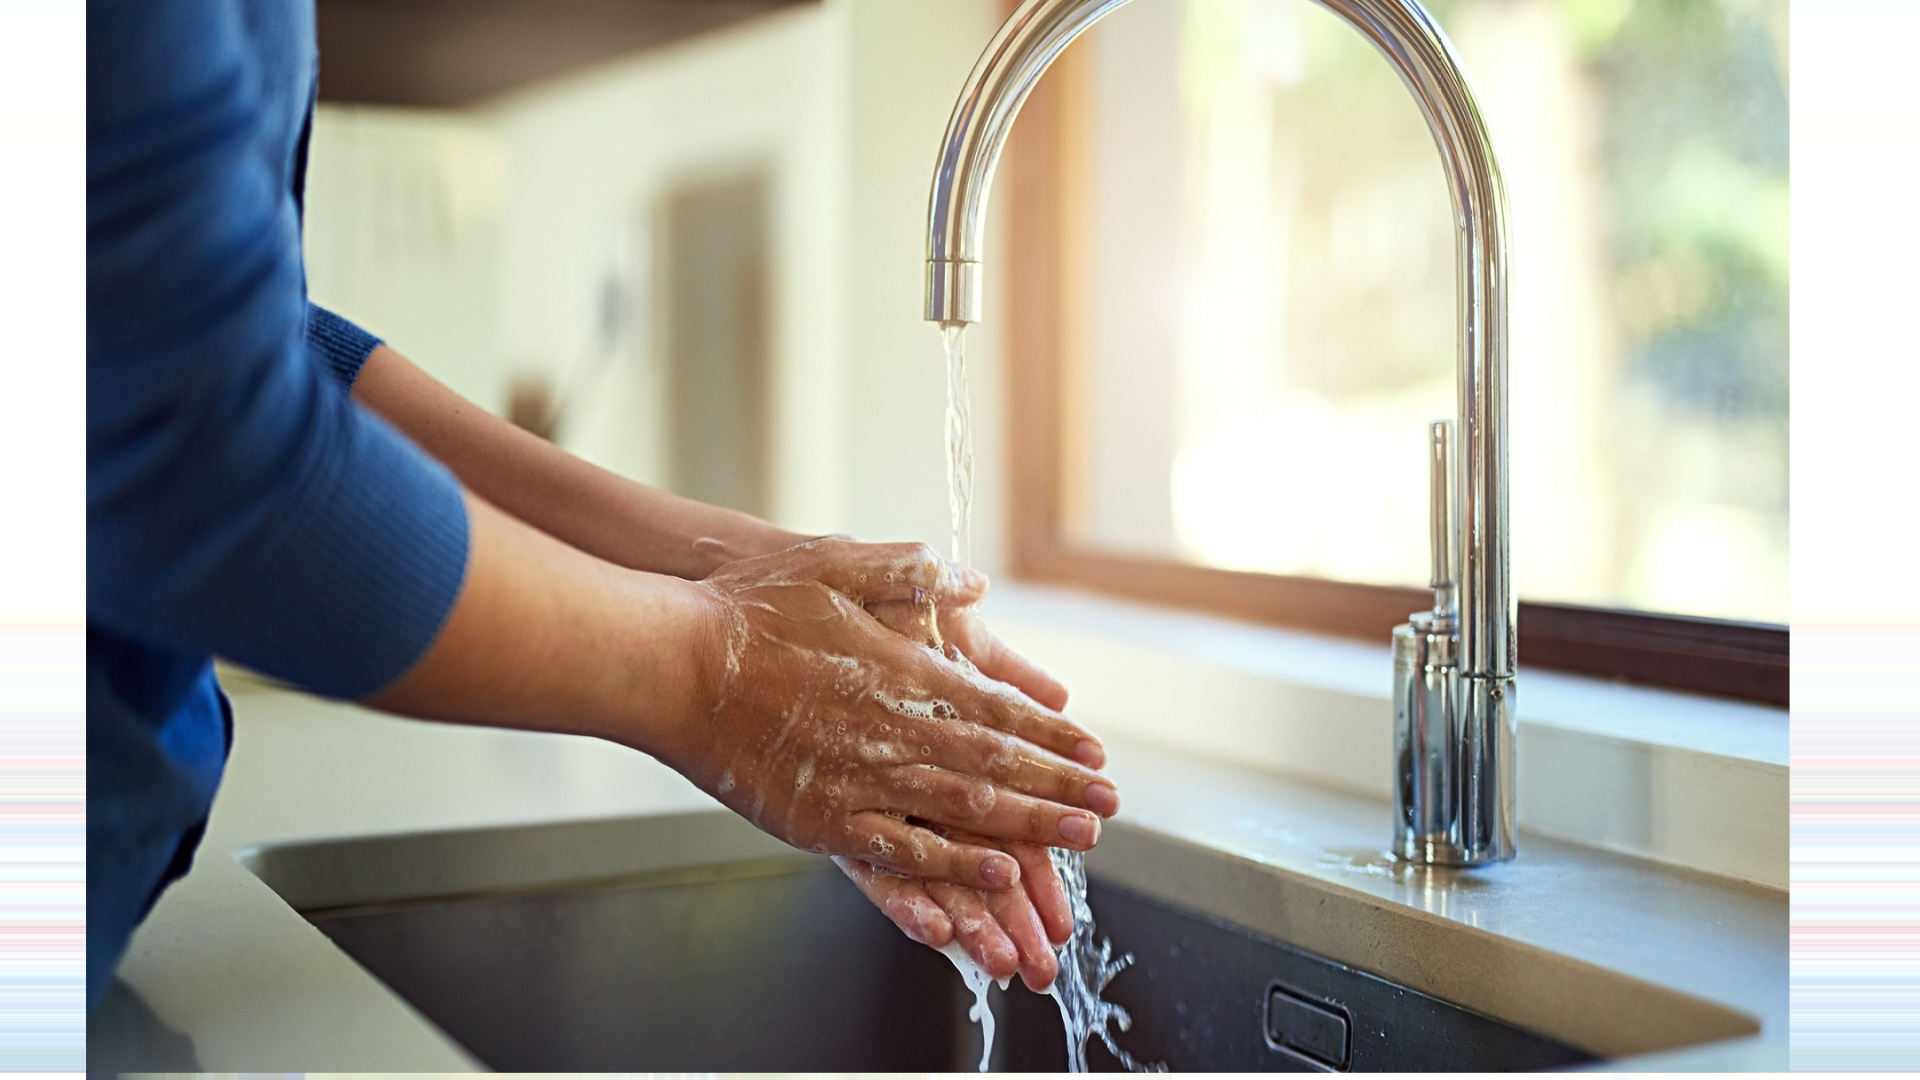washing hand: (688, 15, 1395, 1040)
